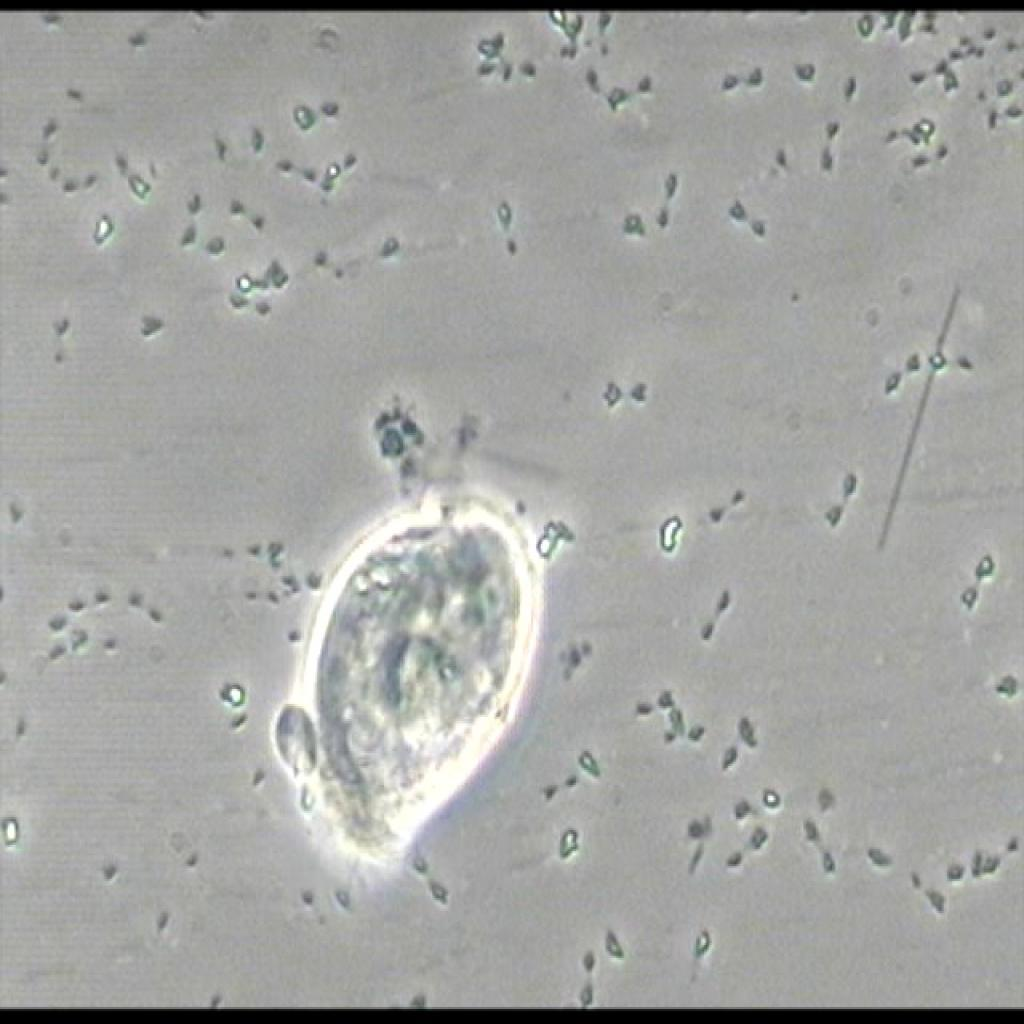Chilodonella: (275, 462, 560, 888)
